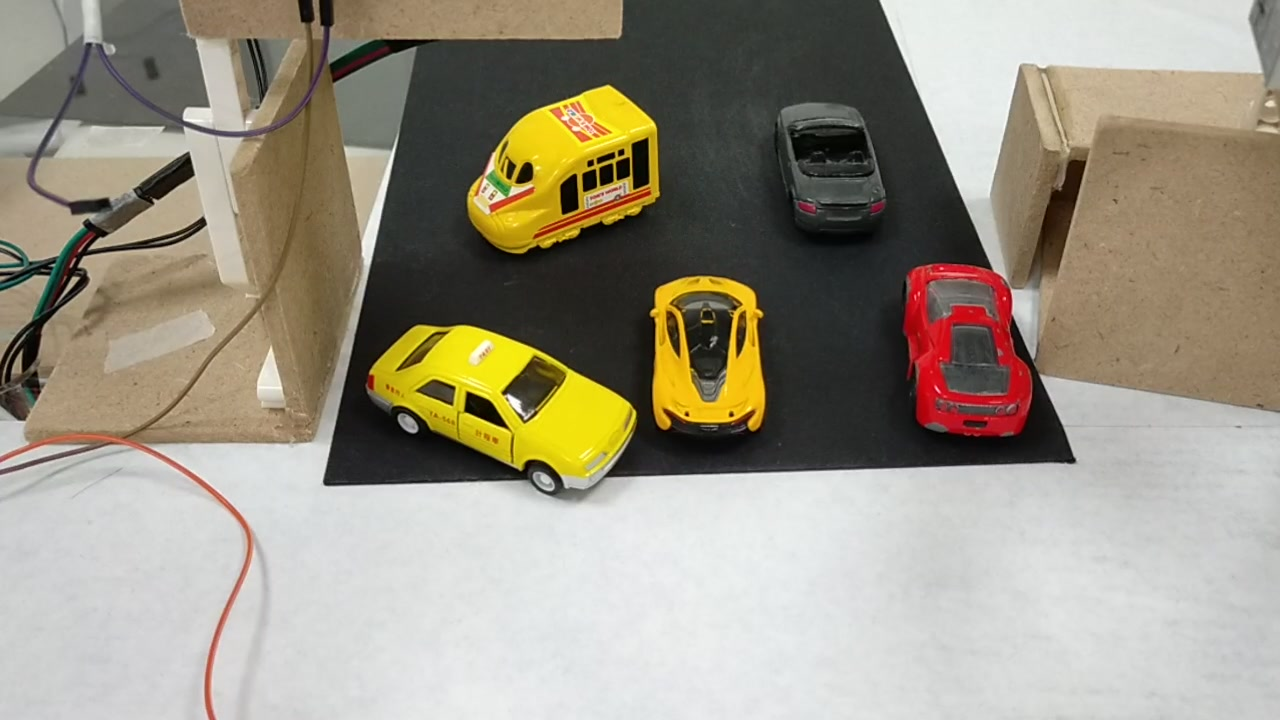car: (349, 315, 639, 507), (906, 261, 1032, 438), (645, 273, 765, 436), (770, 103, 887, 231)
